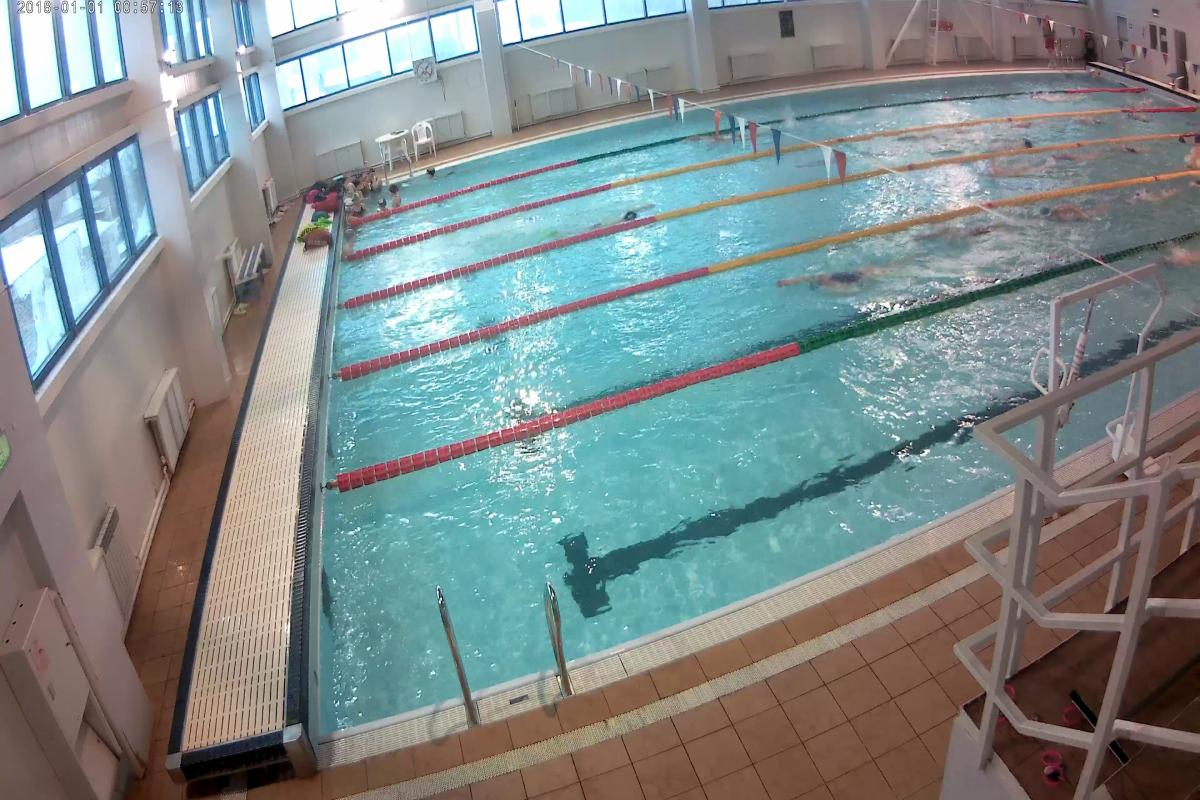swimmer: (773, 260, 903, 307), (1034, 204, 1096, 228), (600, 203, 649, 226)
